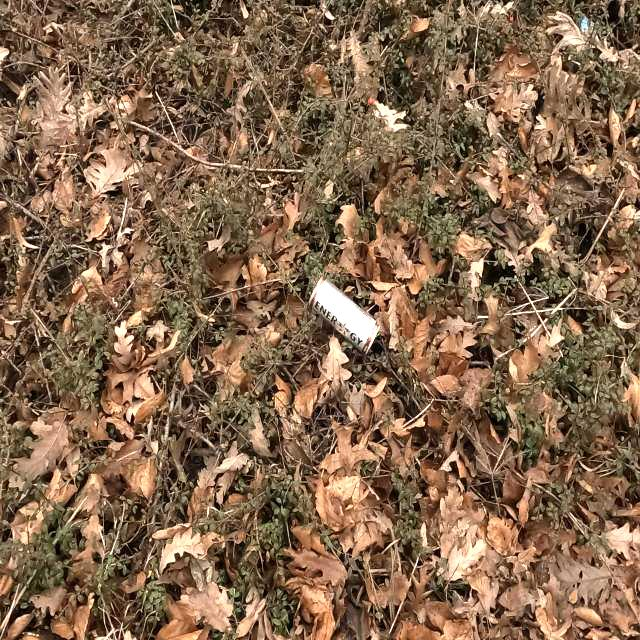Metal: (309, 280, 381, 356)
